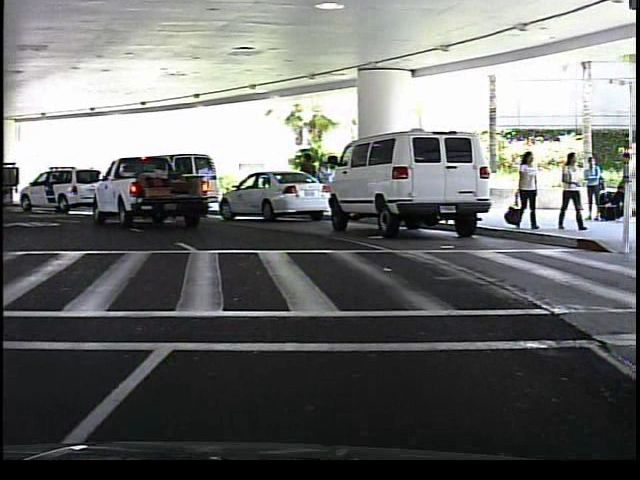person: (513, 146, 543, 230), (560, 150, 589, 236), (581, 154, 608, 226), (613, 151, 636, 221), (298, 150, 322, 212)
